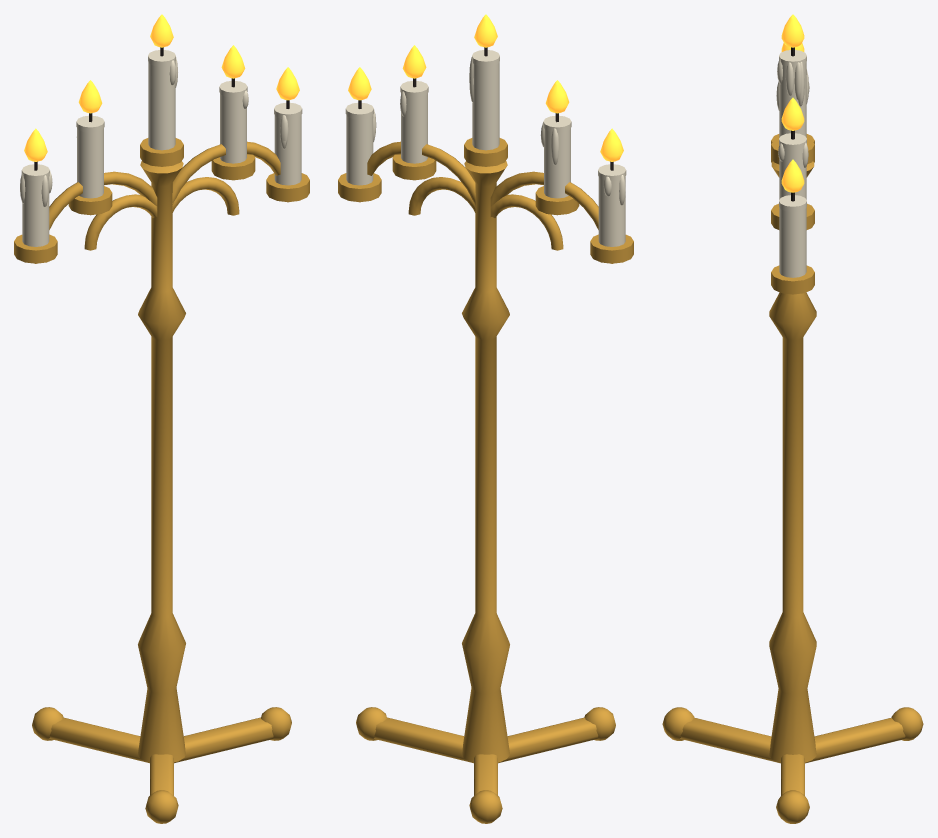
File: magic_candelabra.glb
3 renders of one model, left to right at view 1: azimuth 30°, elevation 25°; view 2: azimuth 150°, elevation 25°; view 3: azimuth 270°, elevation 25°, orthographic.
Visible parts, largest first — view 1: magic_candelabra; view 2: magic_candelabra; view 3: magic_candelabra.
Part boxes in pixels (<box>): magic_candelabra: <box>14,14,309,823</box>; magic_candelabra: <box>338,14,633,823</box>; magic_candelabra: <box>662,14,923,823</box>.
Size of the model in its own units: 0.69 by 1.71 by 0.5377.
